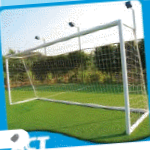goals: (4, 18, 149, 134)
